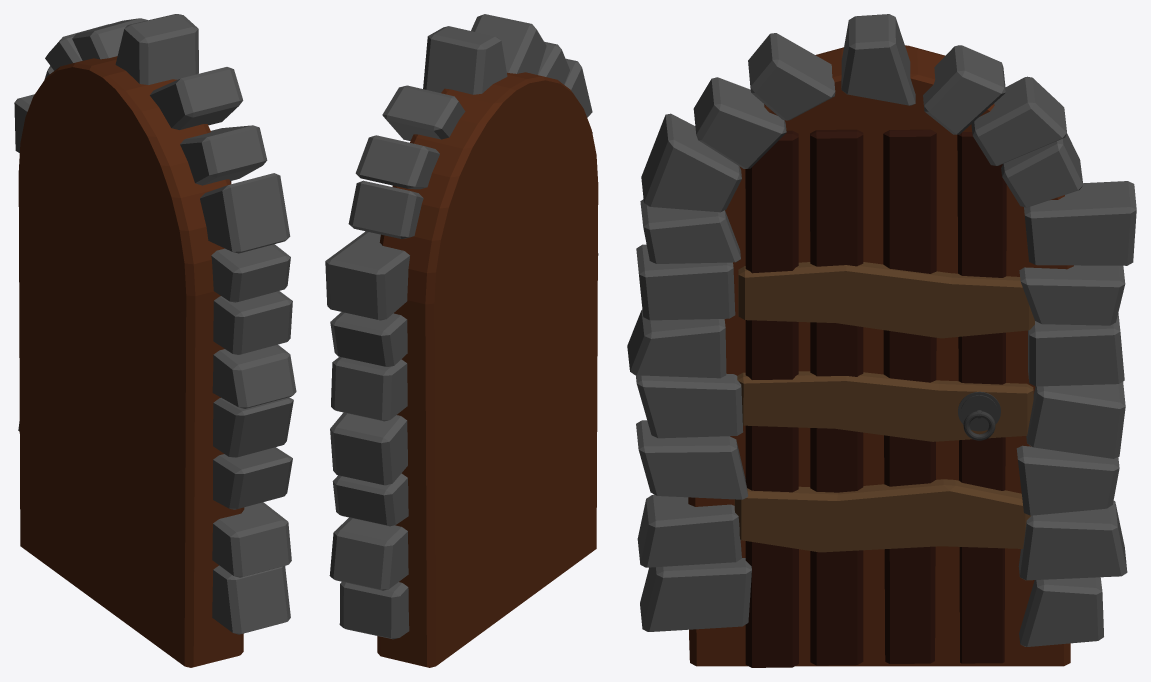
The model's file is door.fbx.
3 renders of one model, left to right at view 1: azimuth 30°, elevation 25°; view 2: azimuth 150°, elevation 25°; view 3: azimuth 270°, elevation 25°, orthographic. The views are drawn at different scales.
Visible parts, largest first — view 1: Circle.003; view 2: Circle.003; view 3: Circle.003, Torus.001.
Boxes of the visible parts, x1,y1,x2,y2 form: Circle.003: (14,14,296,667); Circle.003: (325,14,598,667); Circle.003: (627,14,1136,667); Torus.001: (958,391,1000,440).
Size of the model in its own units: 57.09 by 364 by 263.
